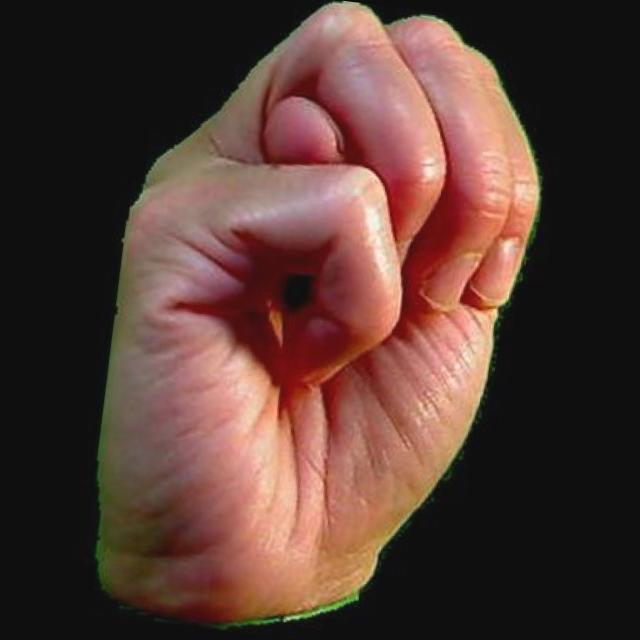m: (62, 0, 573, 640)
